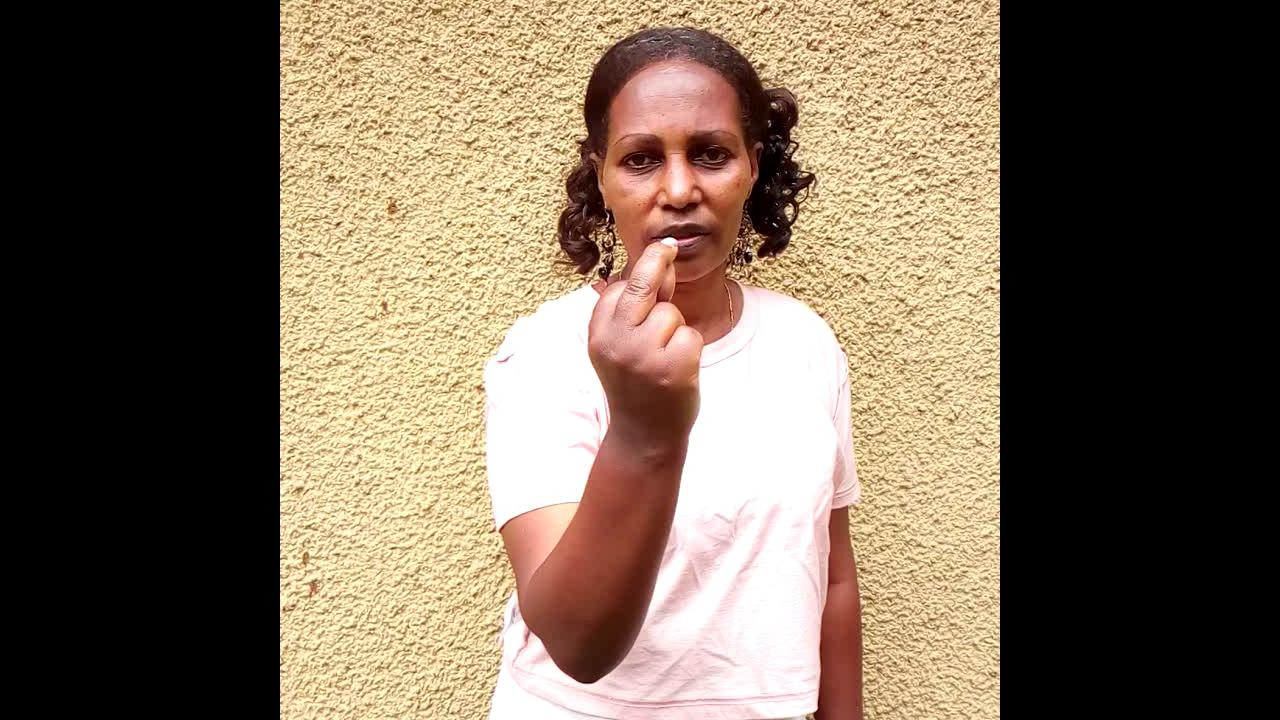CHE: (588, 238, 707, 563)
